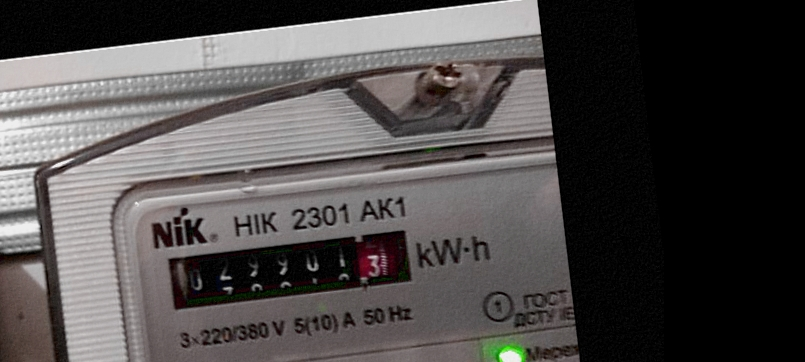0: (302, 244, 322, 275), (185, 264, 206, 293)
1: (333, 240, 349, 269)
2: (214, 254, 235, 283)
3: (364, 251, 384, 279)
9: (244, 251, 263, 280), (275, 249, 291, 277)
screen: (158, 219, 424, 321)
